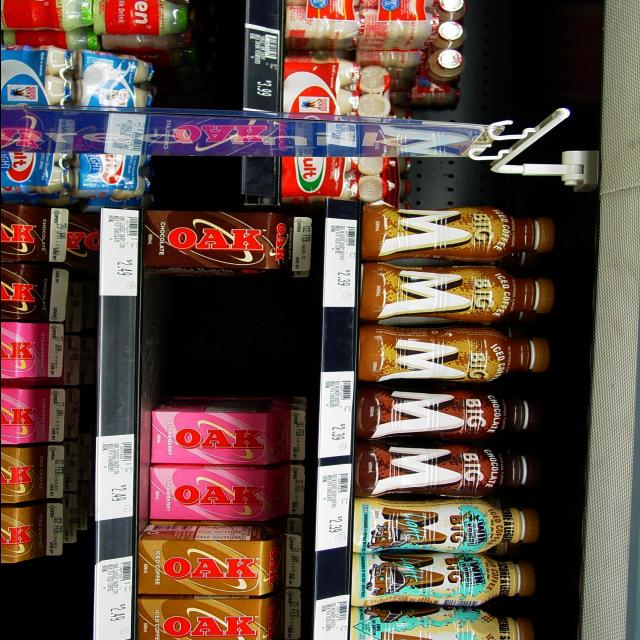empty_space: (159, 278, 311, 394), (2, 561, 70, 640)
